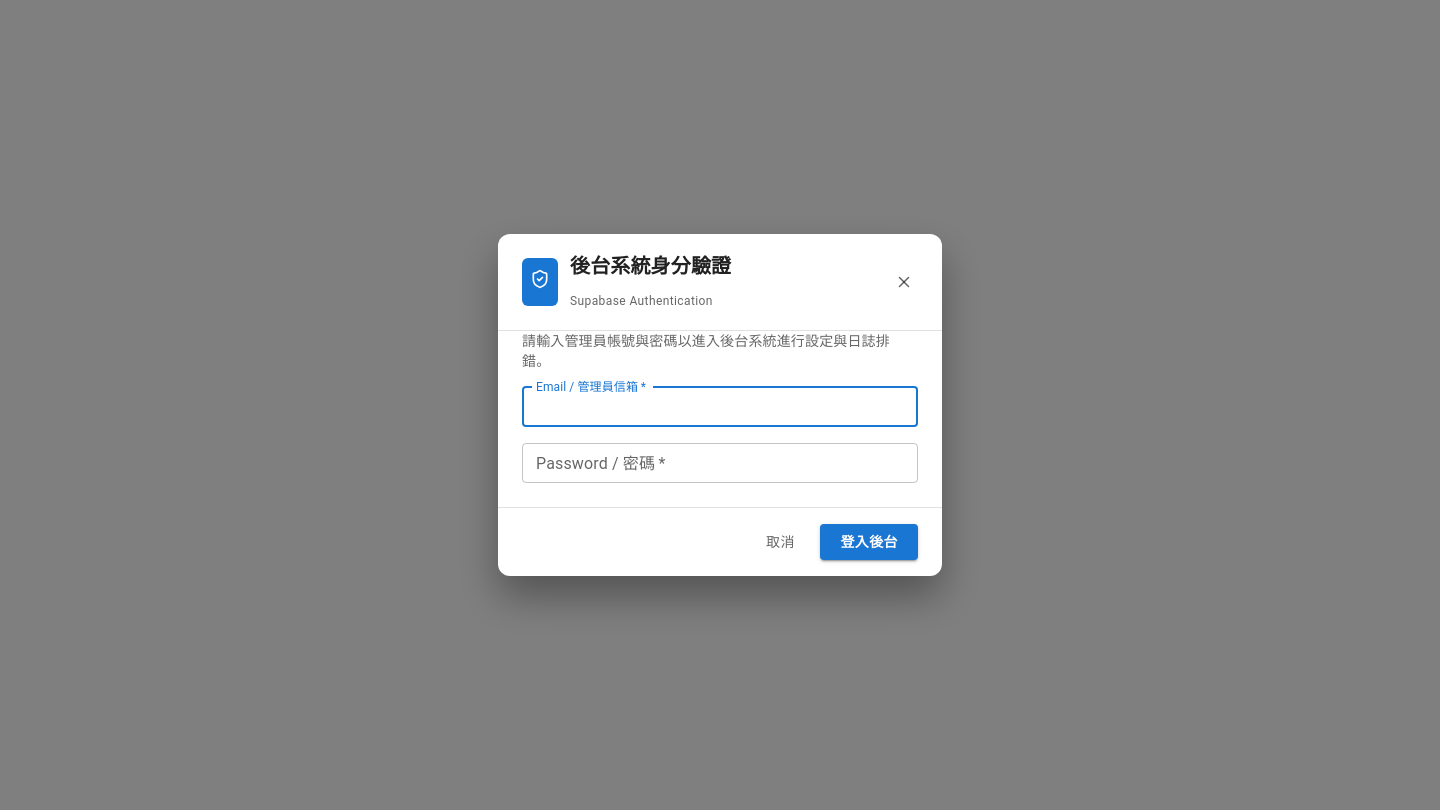
Test case: AdminLoginModal Component › rejects a signed-in account without the admin role and signs it back out
Type "viewer@user.com" into the field labelled "Email / 管理員信箱 *" at (720,407), box [522, 387, 918, 427]
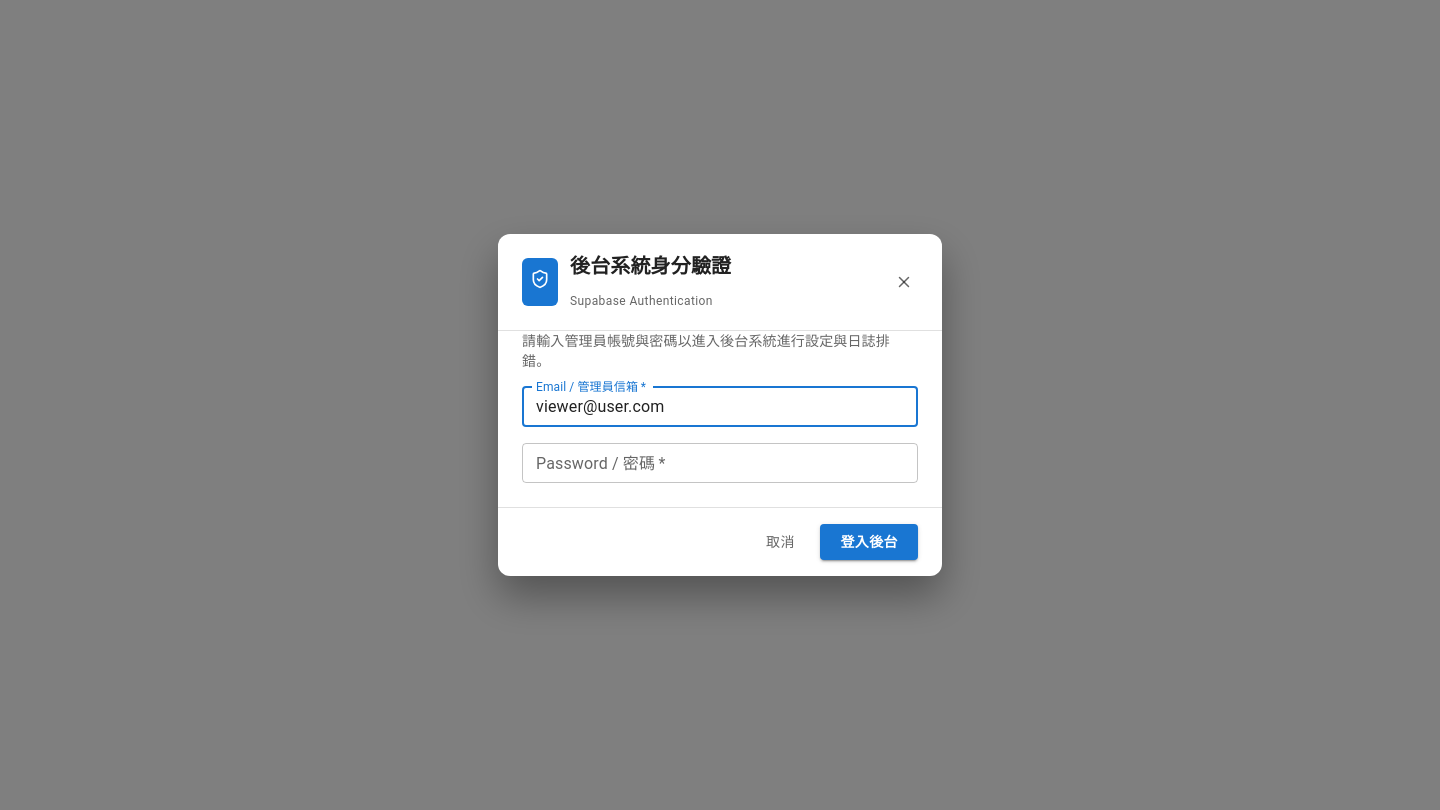
Type "pass123" into the password field labelled "Password / 密碼 *" at (720,463), box [522, 443, 918, 483]
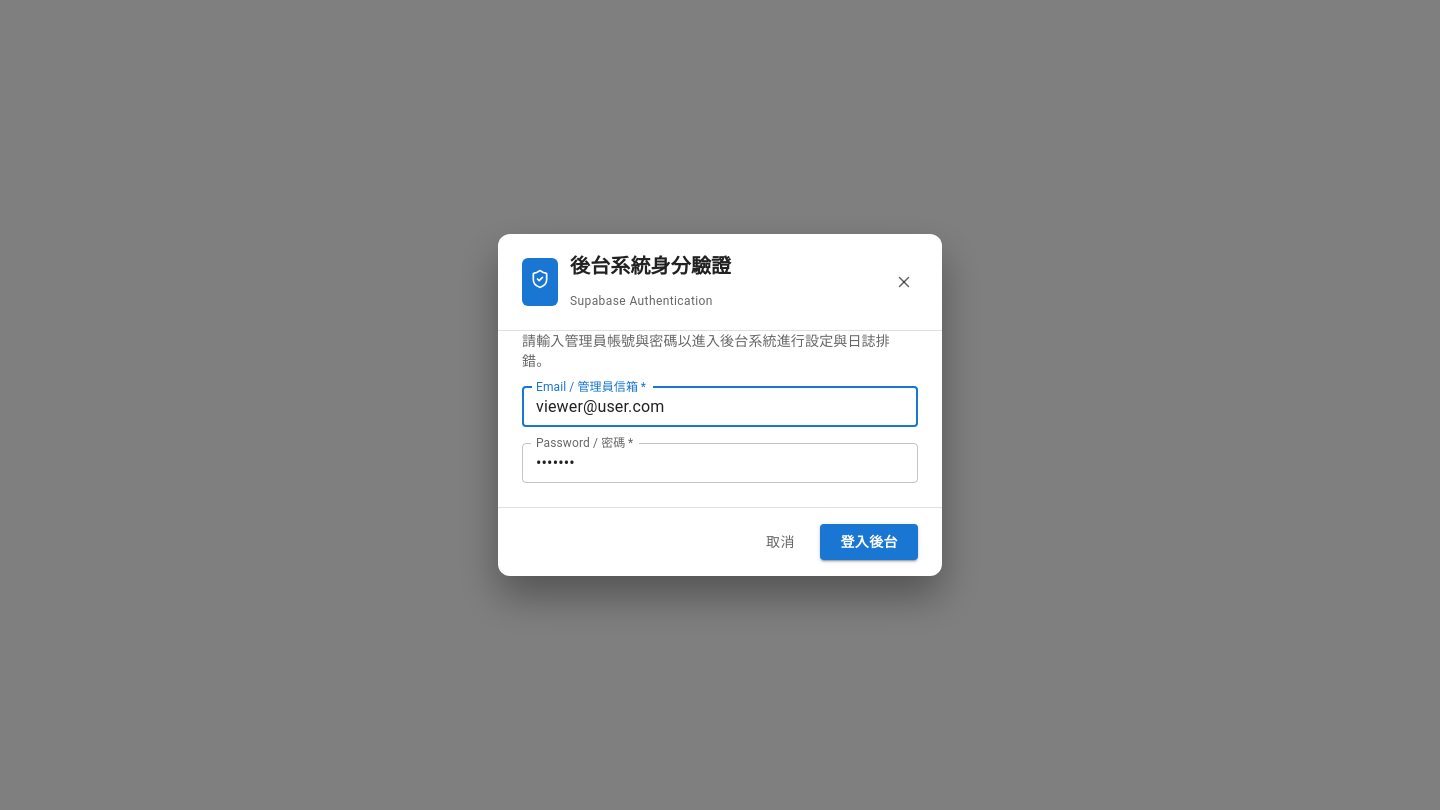
Click the button "登入後台" at (869,542), box [820, 524, 918, 560]
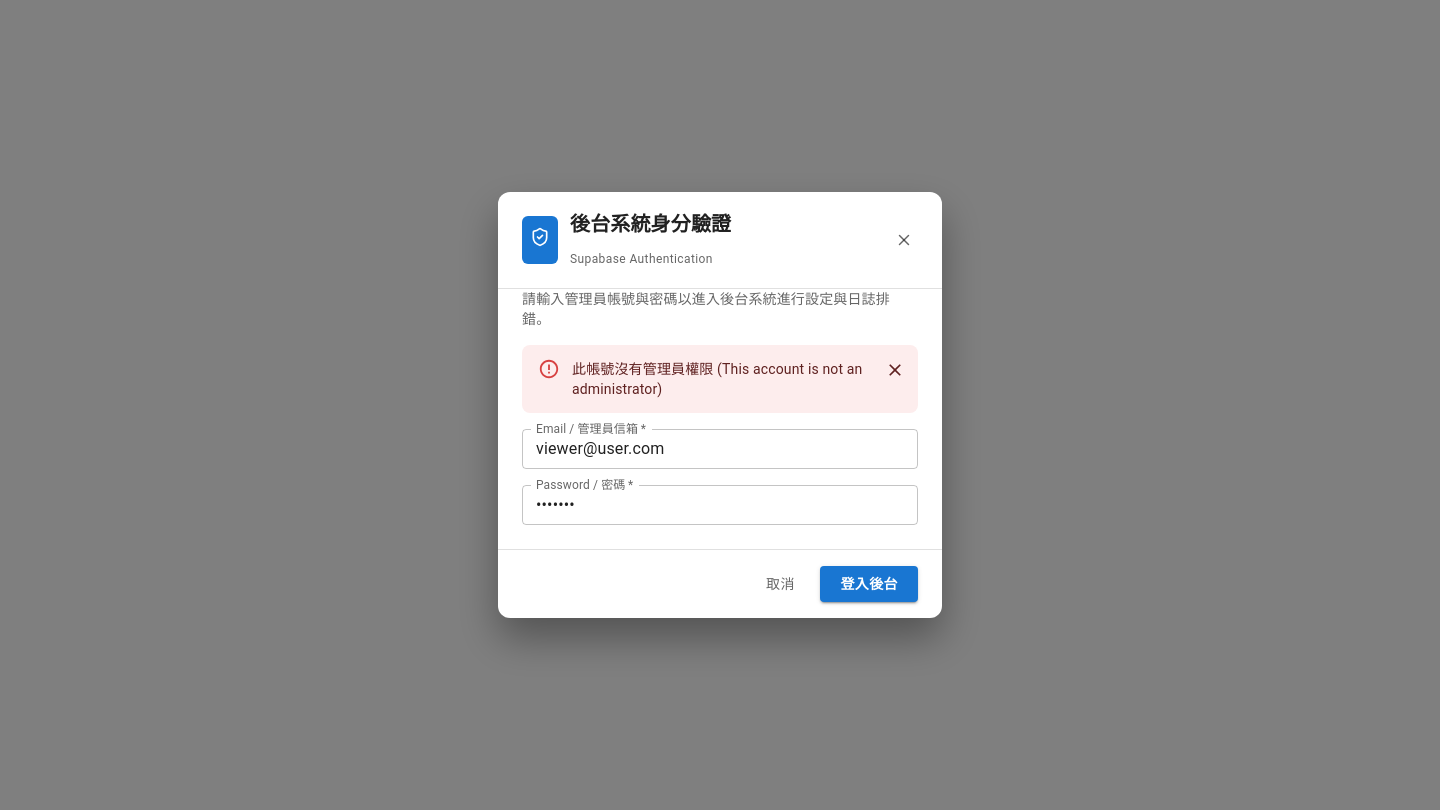
Expected: the text "此帳號沒有管理員權限 (This account is not an administrator)" is shown, [572, 351, 864, 407]
